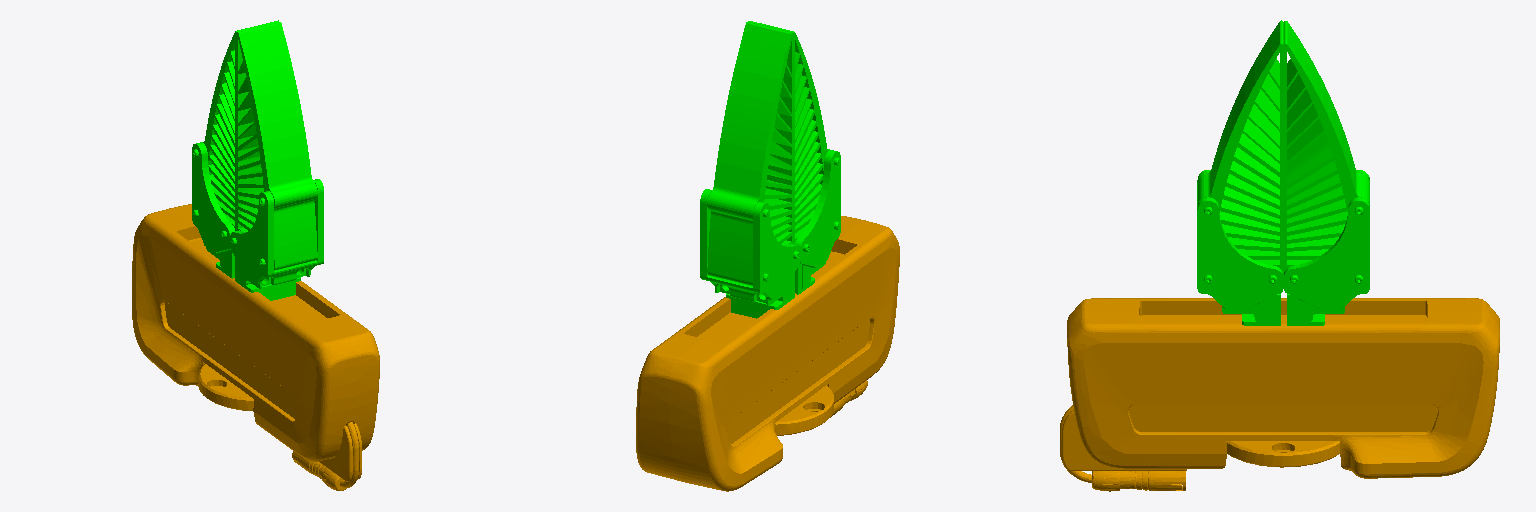
The robot description file, URDF, robot "panda_hand":
<?xml version="1.0" ?>
<robot name="panda_hand" xmlns:xacro="http://www.ros.org/wiki/xacro">
  <link name="panda_hand">
    <visual>
      <geometry>
        <mesh filename="meshes/visual/hand.obj"/>
      </geometry>
    </visual>
    <collision>
      <geometry>
        <mesh filename="meshes/collision/hand.obj"/>
      </geometry>
    </collision>
    <inertial>
      <origin rpy="0 0 0" xyz="0 0 0.04"/>
       <mass value=".81"/>
       <inertia ixx="0.1" ixy="0" ixz="0" iyy="0.1" iyz="0" izz="0.1"/>
    </inertial>
  </link>
  <link name="panda_leftfinger">
    <visual>
      <!-- <origin rpy="0 0 3.14159265359" xyz="0 0 0"/> -->
      <geometry>
        <mesh filename="meshes/visual/tri_finger.obj"/>
      </geometry>
      <material name="green">
    		<color rgba="0. 1. 0. 1."/>
  		</material>
    </visual>
    <collision>
      <!-- <origin rpy="0 0 3.14159265359" xyz="0 0 0"/> -->
      <geometry>
        <mesh filename="meshes/collision/tri_finger_14cm.obj"/>
      </geometry>
    </collision>
  	<inertial>
      <origin rpy="0 0 0" xyz="0 0.01 0.02"/>
       <mass value="0.1"/>
       <inertia ixx="0.1" ixy="0" ixz="0" iyy="0.1" iyz="0" izz="0.1"/>
    </inertial>
  </link>
  <link name="panda_rightfinger">
    <visual>
      <origin rpy="0 0 3.14159265359" xyz="0 0 0"/>
      <geometry>
        <mesh filename="meshes/visual/tri_finger.obj"/>
      </geometry>
      <material name="green">
        <color rgba="0. 1. 0. 1."/>
      </material>
    </visual>
    <collision>
    <origin rpy="0 0 3.14159265359" xyz="0 0 0"/>
      <geometry>
        <mesh filename="meshes/collision/tri_finger_14cm.obj"/>
      </geometry>
    </collision>
  	<inertial>

      <origin rpy="0 0 0" xyz="0 -0.01 0.02"/>

       <mass value="0.1"/>

       <inertia ixx="0.1" ixy="0" ixz="0" iyy="0.1" iyz="0" izz="0.1"/>

    </inertial>
  </link>
  <joint name="panda_finger_joint1" type="prismatic">
    <parent link="panda_hand"/>
    <child link="panda_leftfinger"/>
    <origin rpy="0 0 0" xyz="0 0 0.0584"/>
    <axis xyz="0 -1 0"/>
    <dynamics damping="10.0"/>
    <limit effort="20" lower="0.0" upper="0.04" velocity="0.2"/>
  </joint>
  <joint name="panda_finger_joint2" type="prismatic">
    <parent link="panda_hand"/>
    <child link="panda_rightfinger"/>
    <origin rpy="0 0 0" xyz="0 0 0.0584"/>
    <axis xyz="0 1 0"/>
    <dynamics damping="10.0"/>
    <limit effort="20" lower="0.0" upper="0.04" velocity="0.2"/>
  </joint>
</robot>

--- Render facts (derived) ---
3 views of the same robot in one strip: view 1: azimuth 30°, elevation 25°; view 2: azimuth 150°, elevation 25°; view 3: azimuth 270°, elevation 25° (orthographic).
Model panda_hand with 3 links and 2 joints (2 prismatic), rooted at panda_hand, posed every joint at zero.
Visible links, largest first — view 1: panda_hand, panda_leftfinger, panda_rightfinger; view 2: panda_hand, panda_rightfinger, panda_leftfinger; view 3: panda_hand, panda_leftfinger, panda_rightfinger.
Link boxes in pixels (bbox=[...]): panda_hand: bbox=[132, 204, 379, 490]; panda_leftfinger: bbox=[230, 22, 323, 300]; panda_rightfinger: bbox=[192, 20, 278, 278]; panda_hand: bbox=[636, 216, 899, 491]; panda_rightfinger: bbox=[700, 22, 799, 318]; panda_leftfinger: bbox=[748, 21, 840, 294]; panda_hand: bbox=[1060, 298, 1499, 491]; panda_leftfinger: bbox=[1197, 20, 1283, 325]; panda_rightfinger: bbox=[1284, 21, 1369, 325].
Size in the robot's own frame: 0.063 by 0.2045 by 0.2347 metres.
3 mesh visuals loaded from 2 distinct referenced files (2 OBJ).